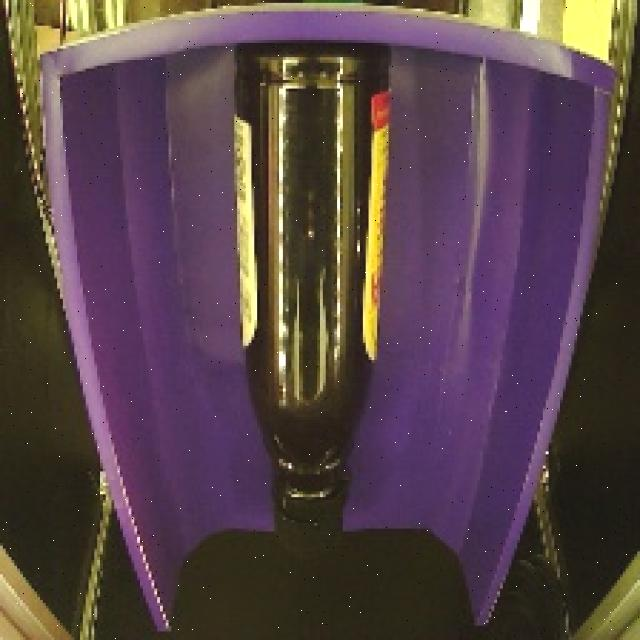plastic: (226, 33, 400, 576)
